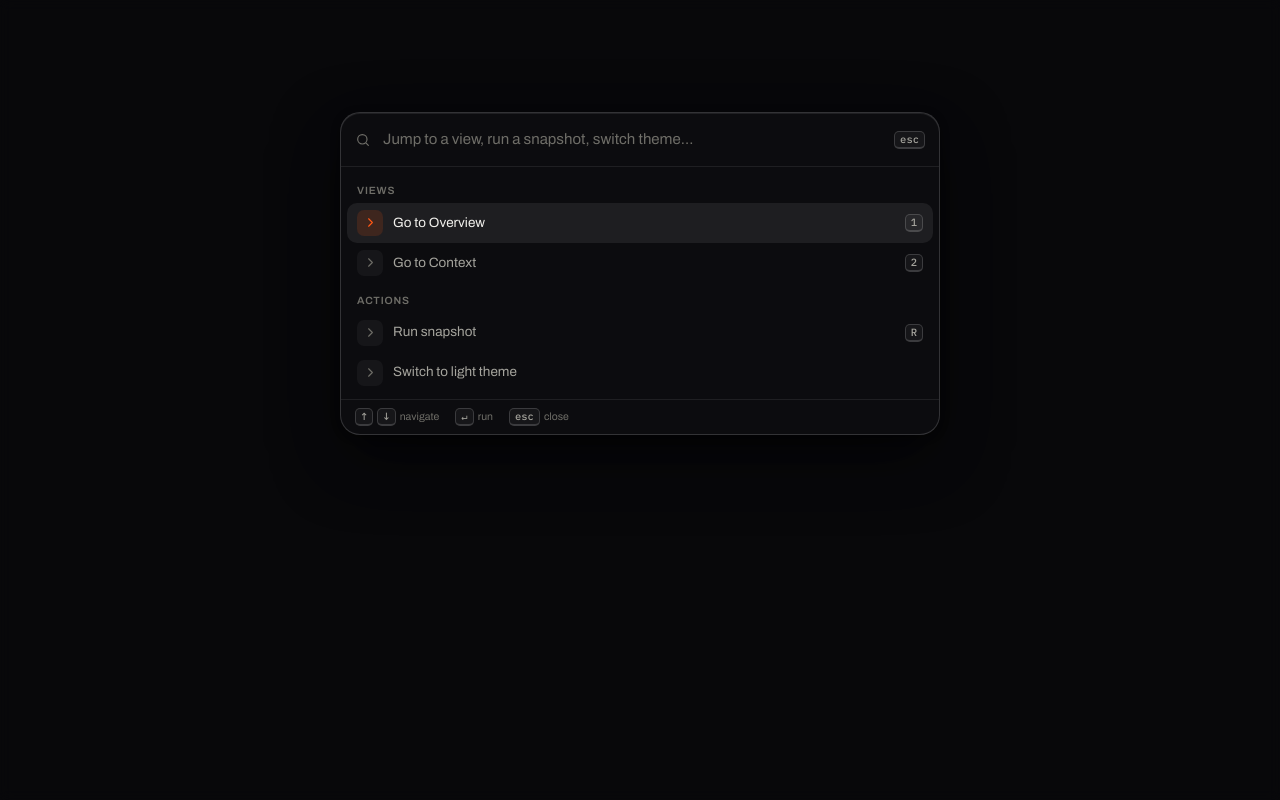
Test: CommandPalette › shows an empty message when nothing matches
Type "zzzz" into the field named "Search commands" at (633, 140), box [381,127,884,152]
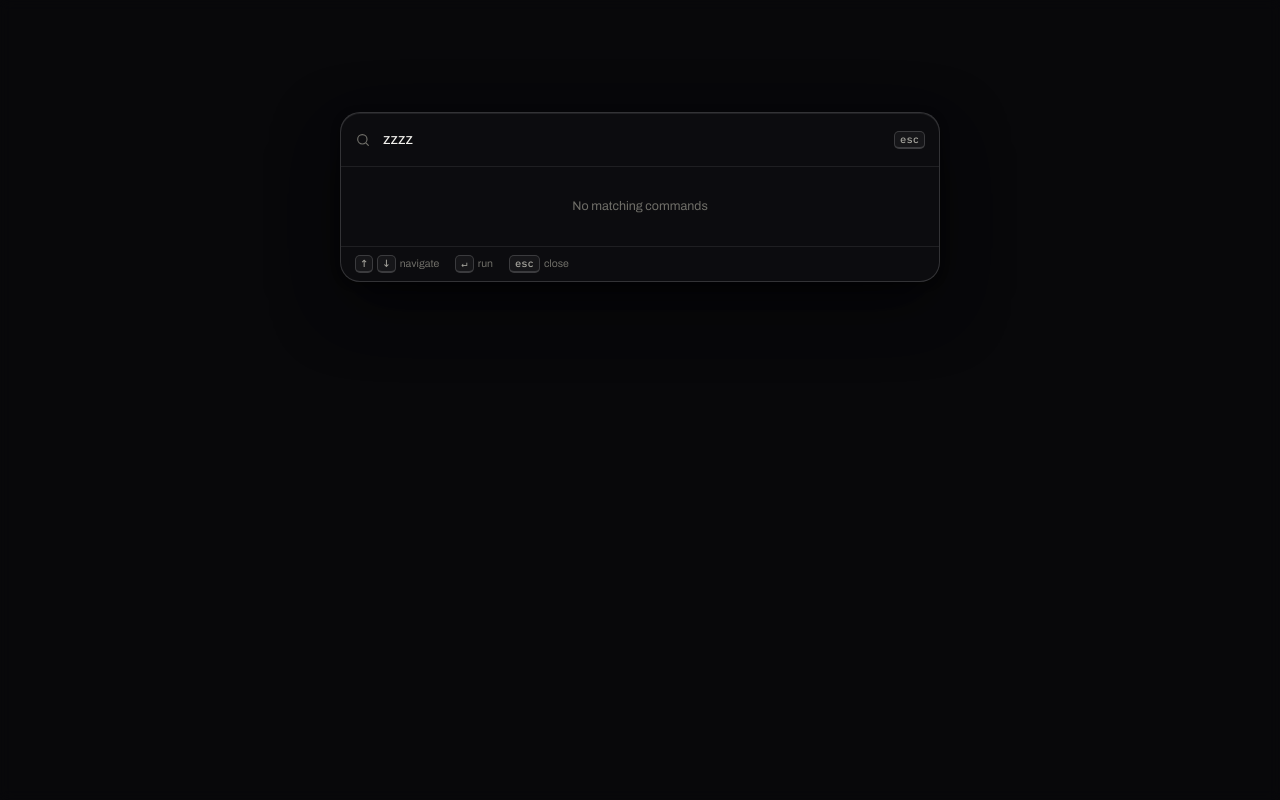
Check: the list item "No matching commands" is shown, box [572,199,708,213]
